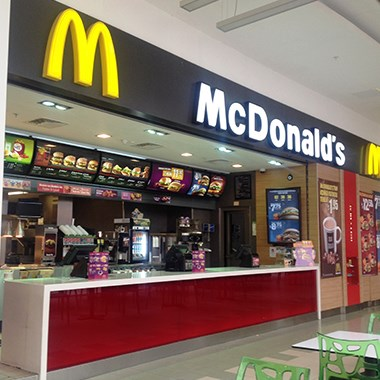mcdonalds: (43, 6, 126, 99)
